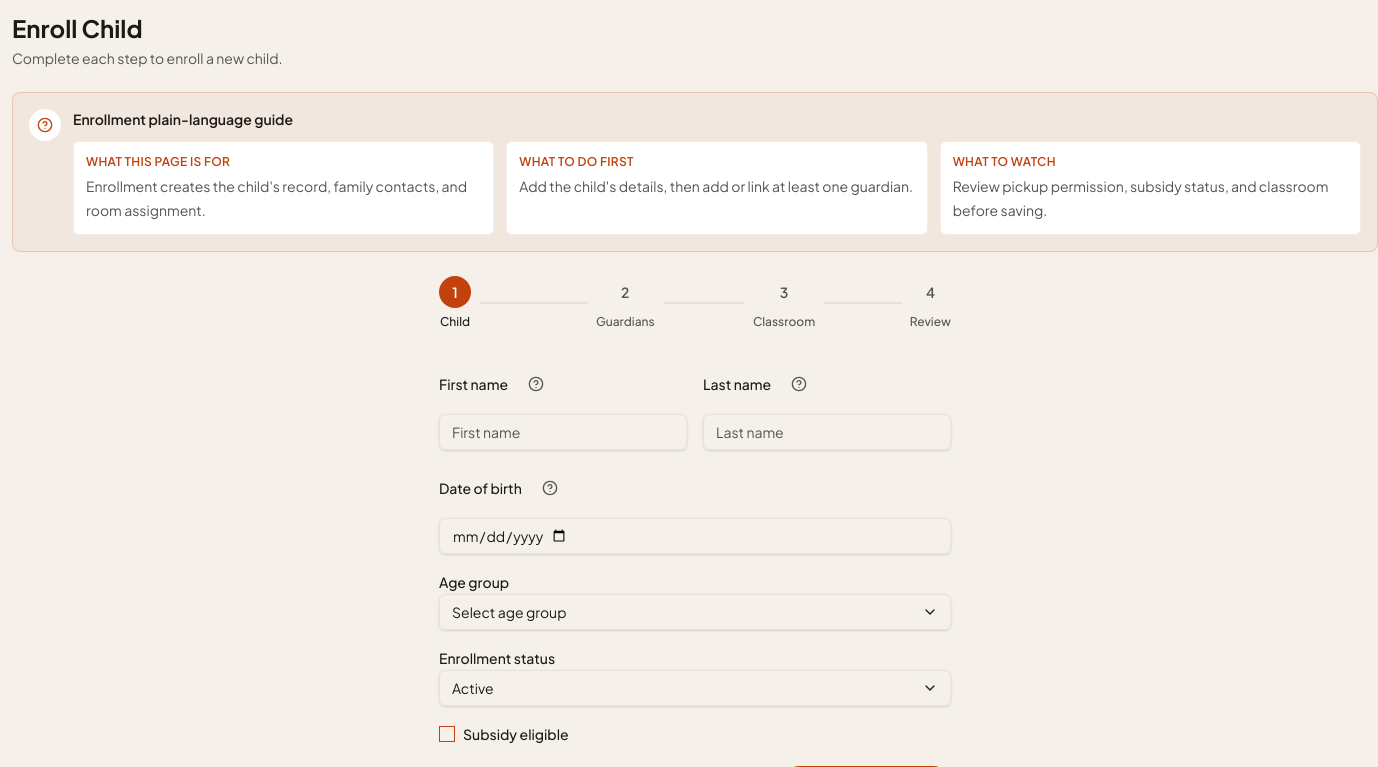
Test case: Enroll child classroom step › starts with no age group selected and suggests one from the date of birth
Expected: the dropdown labelled "Select age group" is empty, left=439, top=594, right=951, bottom=630
Type "2024-01-05" into the date field labelled "Date of birth" at point(695, 536), box left=439, top=518, right=951, bottom=554
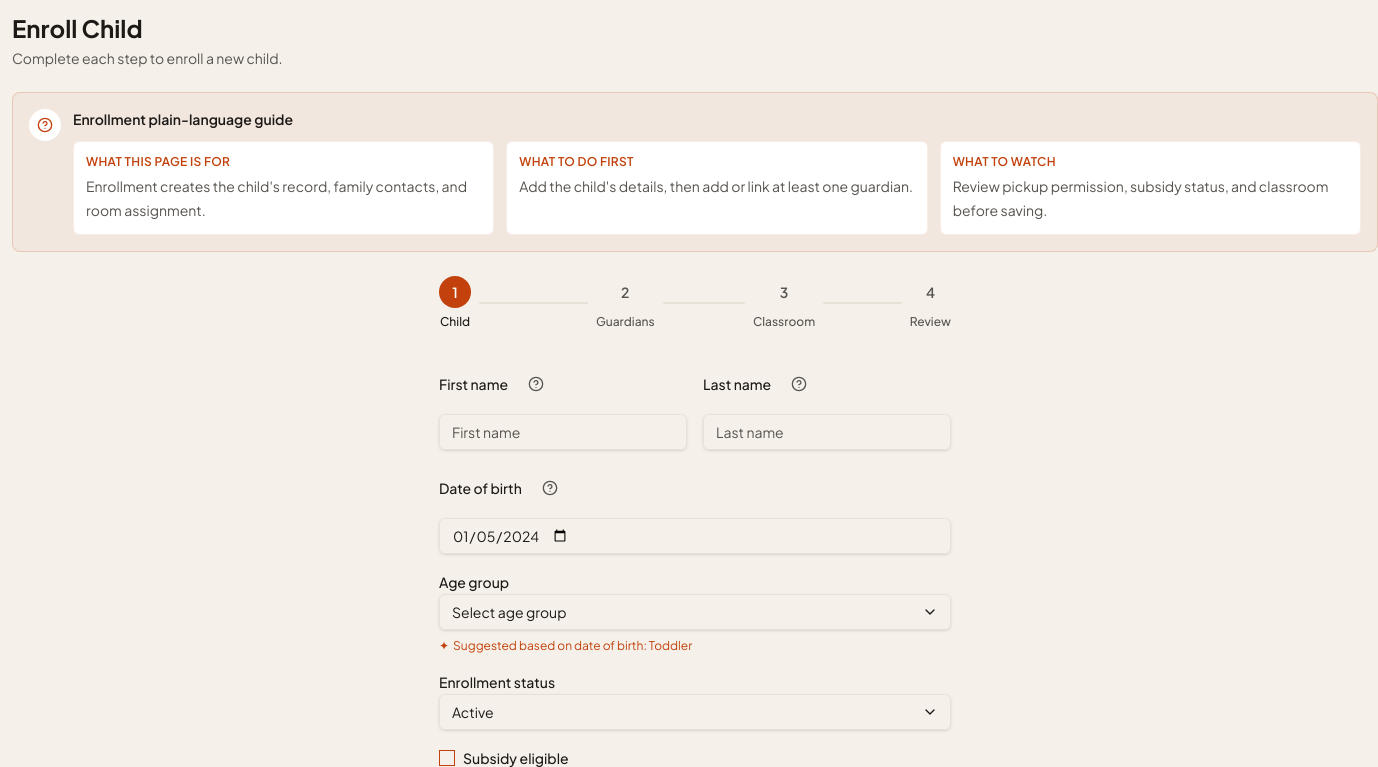
Expected: the dropdown labelled "Select age group" is empty, left=439, top=594, right=951, bottom=630
Now the button "✦ Suggested based on date of birth: Toddler" is shown, box left=439, top=638, right=692, bottom=654
